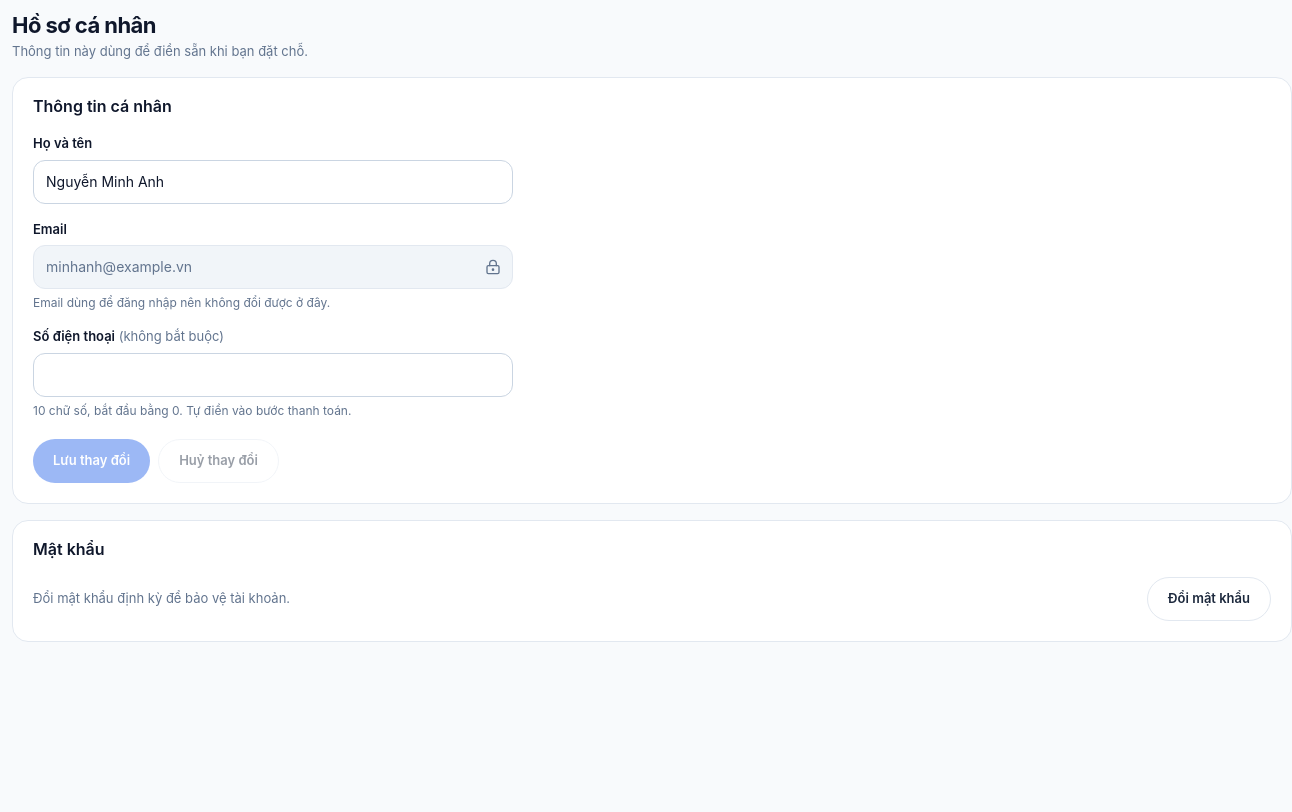
Test case: ProfileView — hồ sơ cá nhân › lưu: chỉ gửi trường đã đổi, hiện thông báo, ô cập nhật theo kết quả Backend và nút Lưu tắt lại
The width and height of the screenshot is (1292, 812).
Type "0912345678" into the field labelled "Số điện thoại (không bắt buộc)" at (273, 374), box [33,352,513,396]
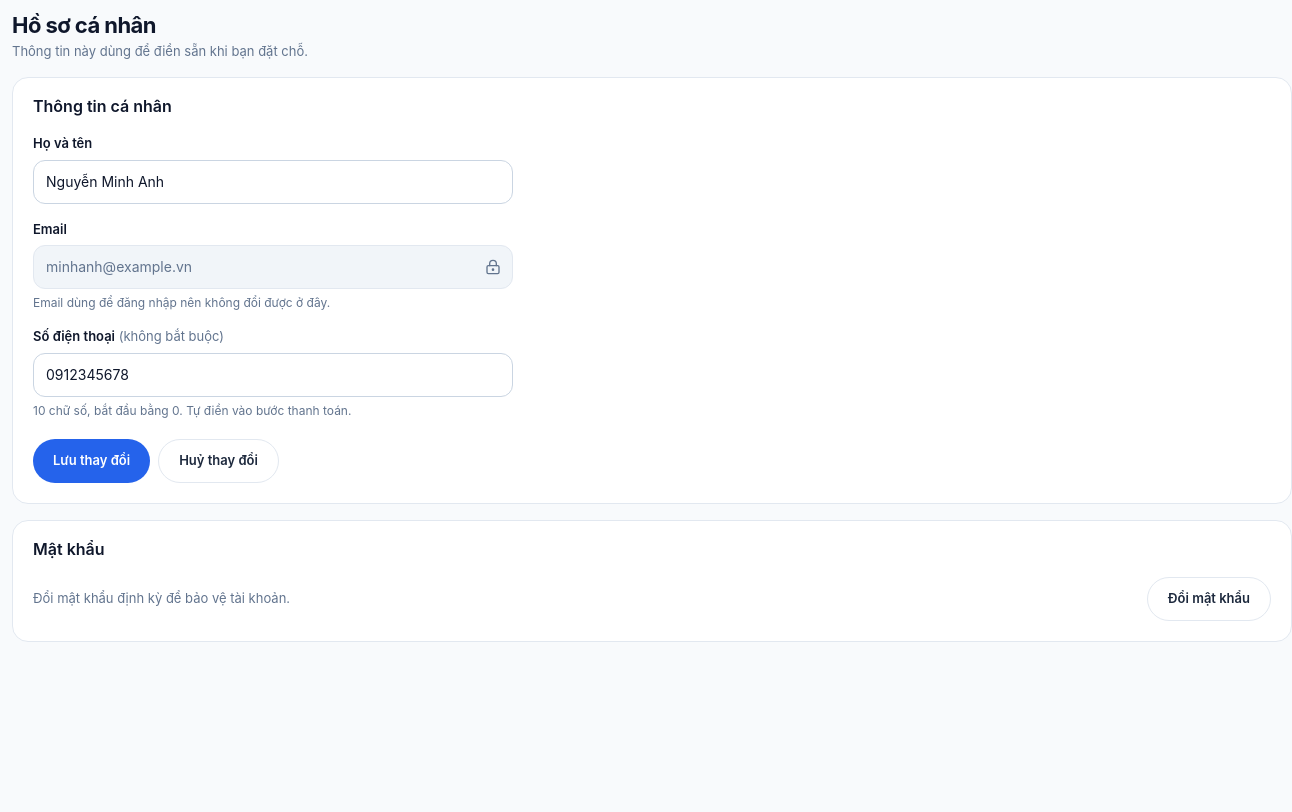
expect the button "Lưu thay đổi" is enabled: met
Click the button "Lưu thay đổi" at (92, 460), box [33,438,150,482]
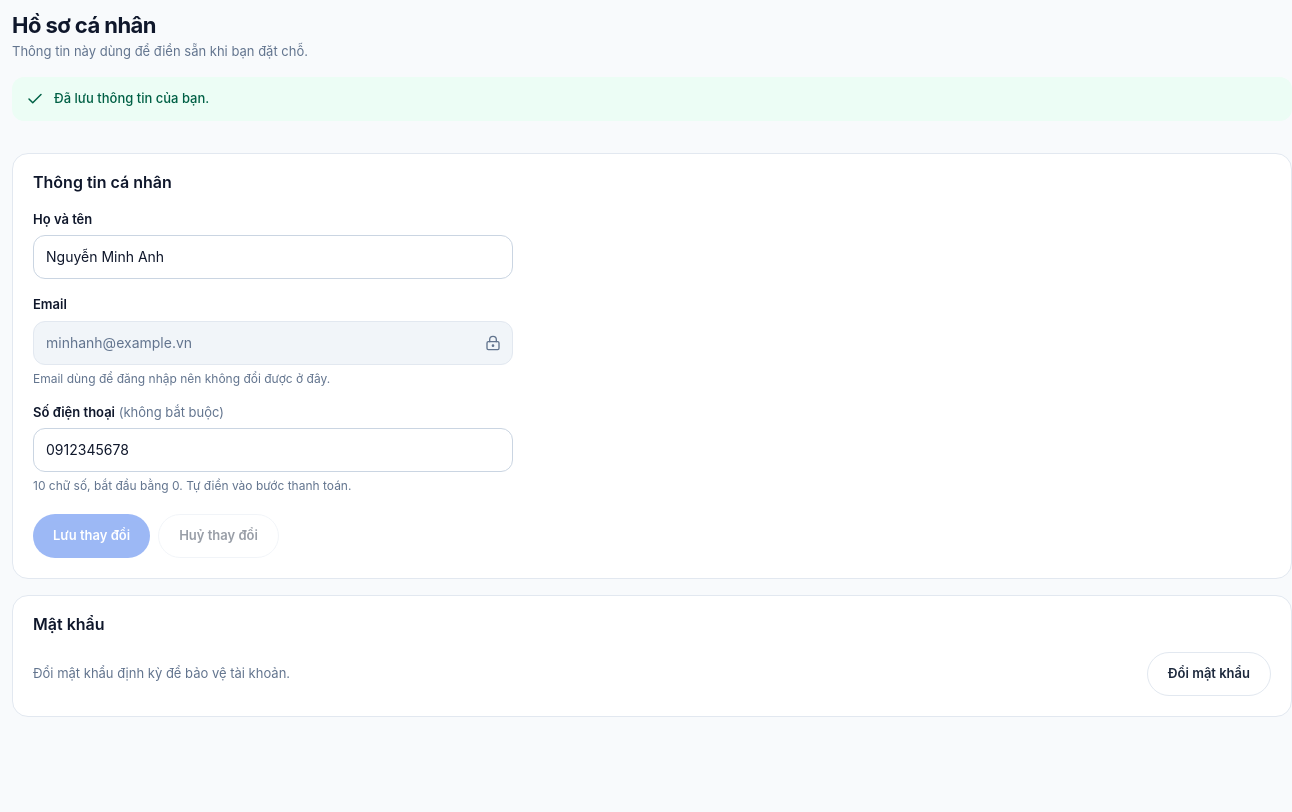
expect the text "Đã lưu thông tin của bạn." is shown: met, box [54,89,209,108]
expect the button "Lưu thay đổi" is disabled: met, box [33,514,150,558]
